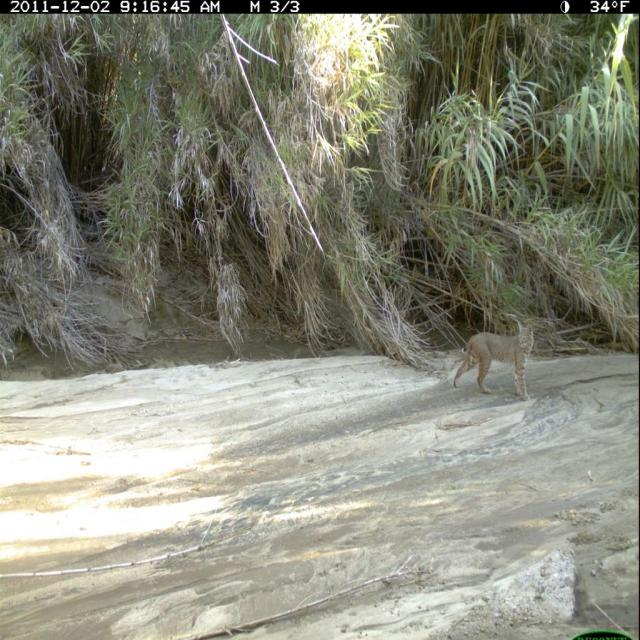bobcat: (452, 317, 536, 404)
